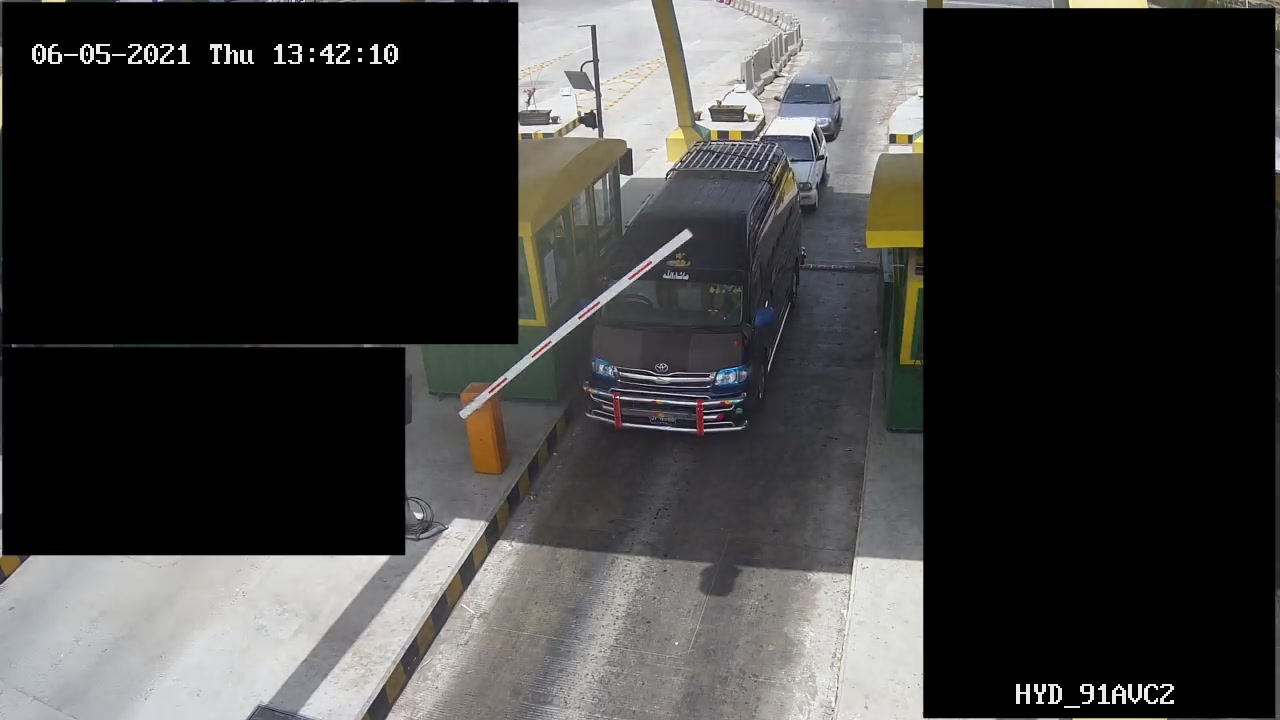F2: (588, 147, 800, 433)
